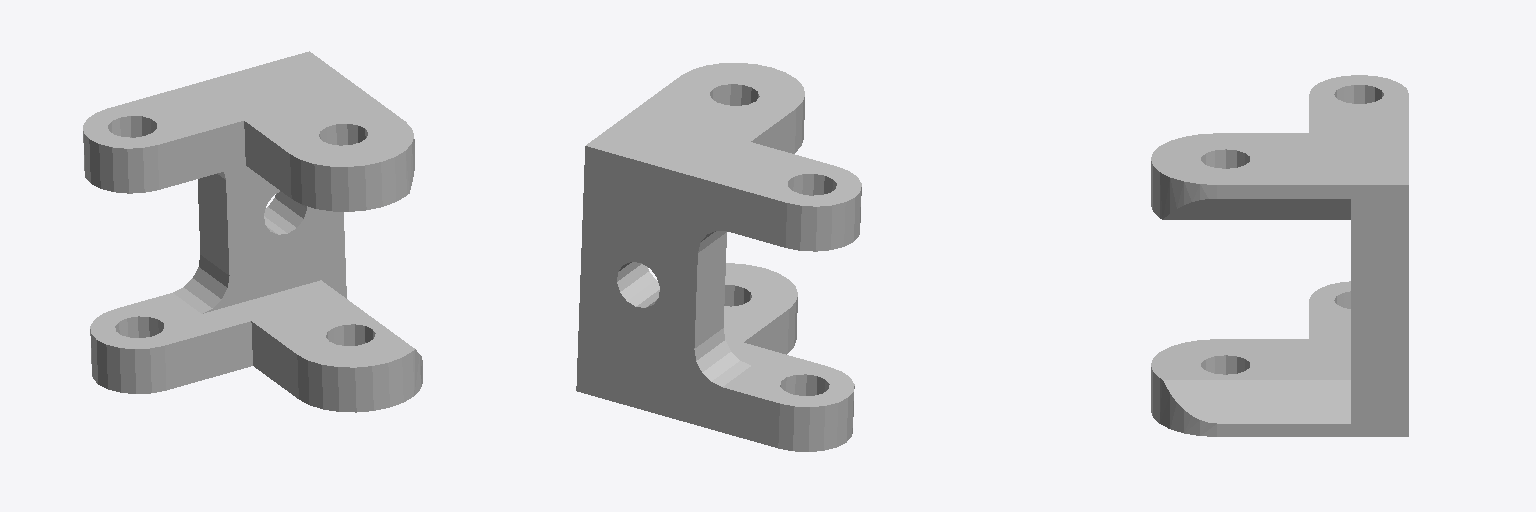
The model's file is left_thumb_1_collisions.obj.
3 views of the same model, side by side, from view 1: azimuth 30°, elevation 25°; view 2: azimuth 150°, elevation 25°; view 3: azimuth 270°, elevation 25° (orthographic).
Bounding box in the file's own units: 0.0176 × 0.017 × 0.0155.